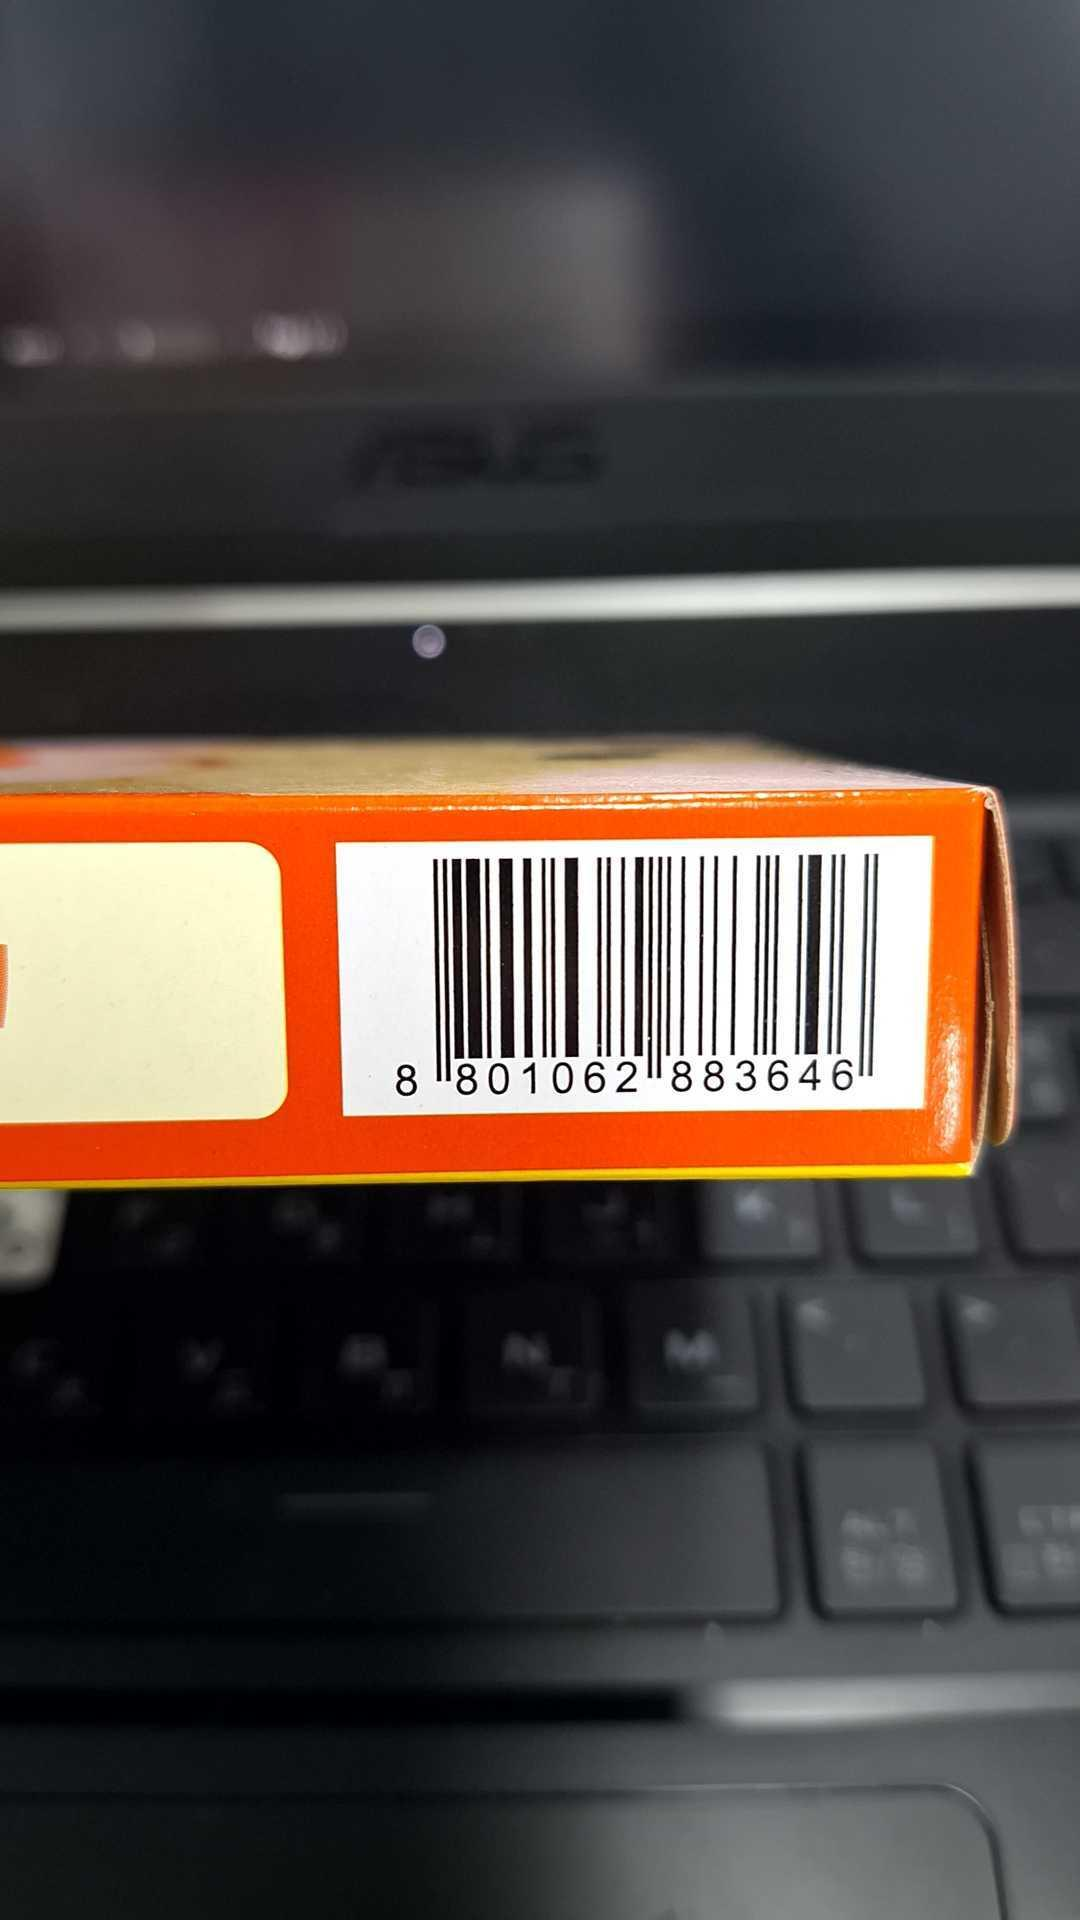crunchy-1500-2024-12-29: (352, 851, 913, 1097)
